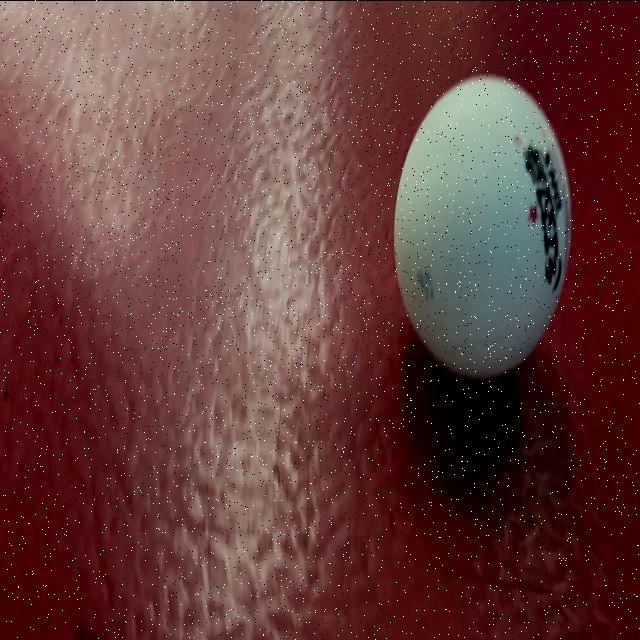ping-pong-ball: (384, 52, 602, 400)
